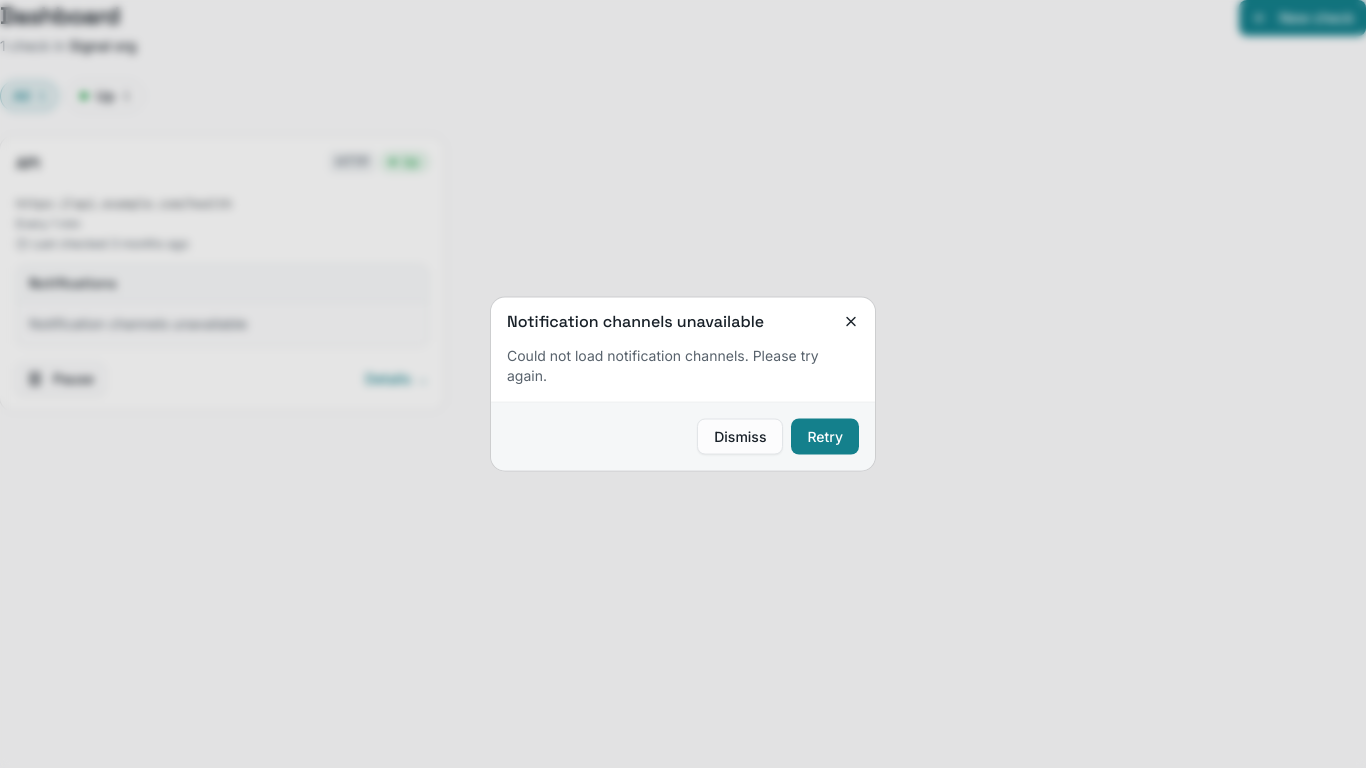
Test: DashboardPage › shows a channel loading error dialog and retries the channel query
Expected: the dialog "Notification channels unavailable" shows "Could not load notification channels. Please try again.", [507,346,819,384]
Expected: the message "Notification channels unavailable" is shown, [16,264,429,347]
Click the button with aria-label "Retry notification channels": (825, 436) [791,418,859,454]
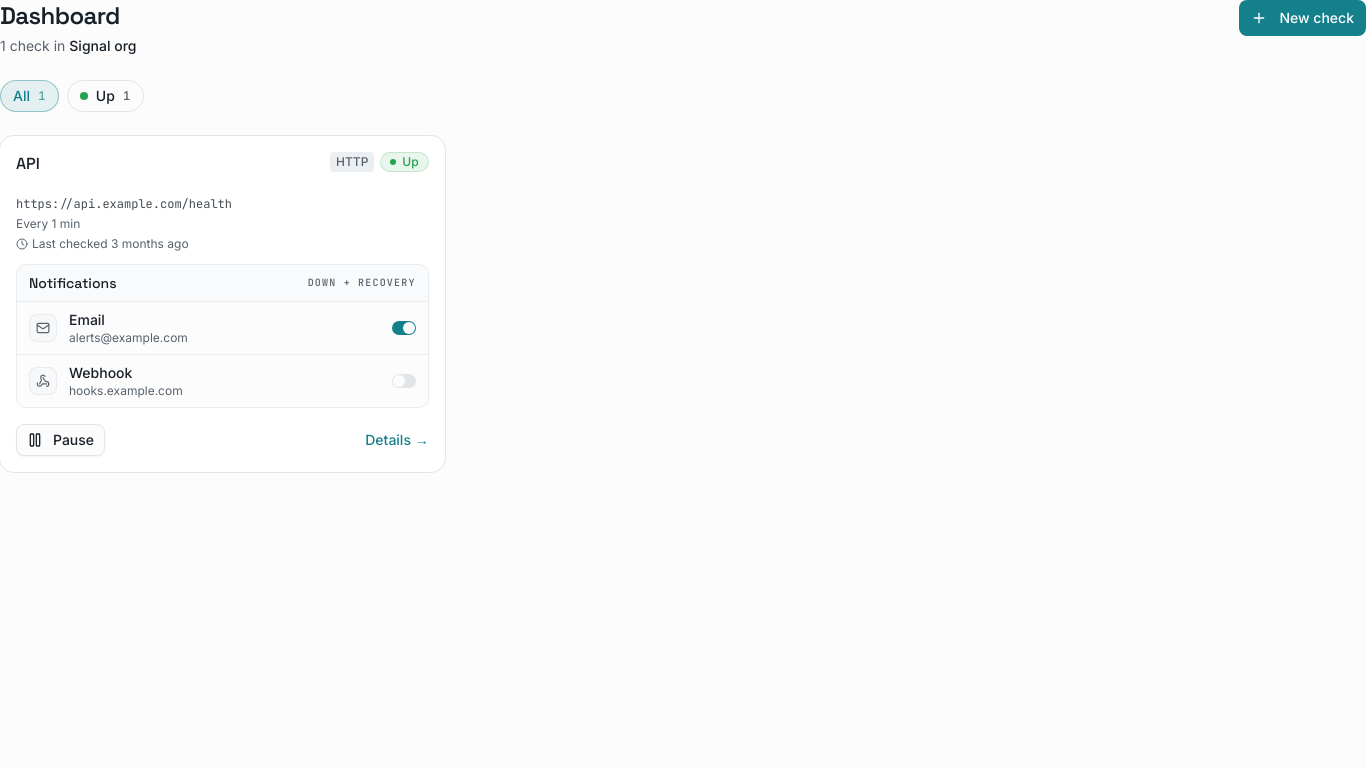
Now the switch named "API — Email notifications" is checked, box [392,321,416,335]
Now the text "Notification channels unavailable" is gone
